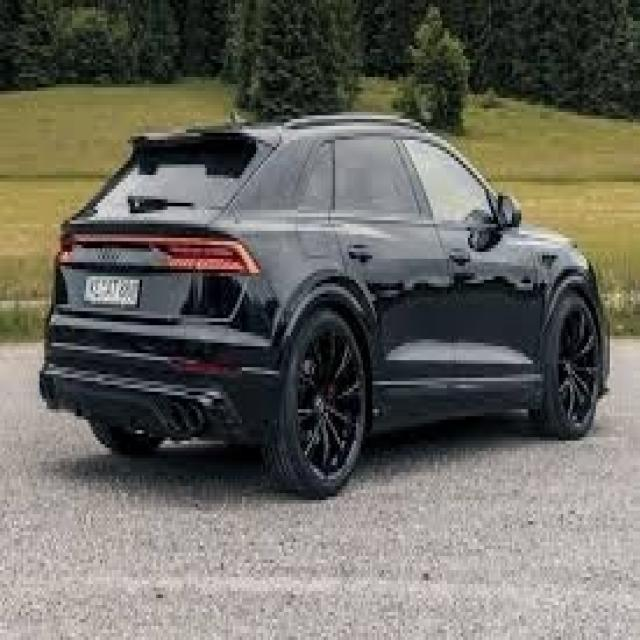black: (44, 120, 604, 510)
